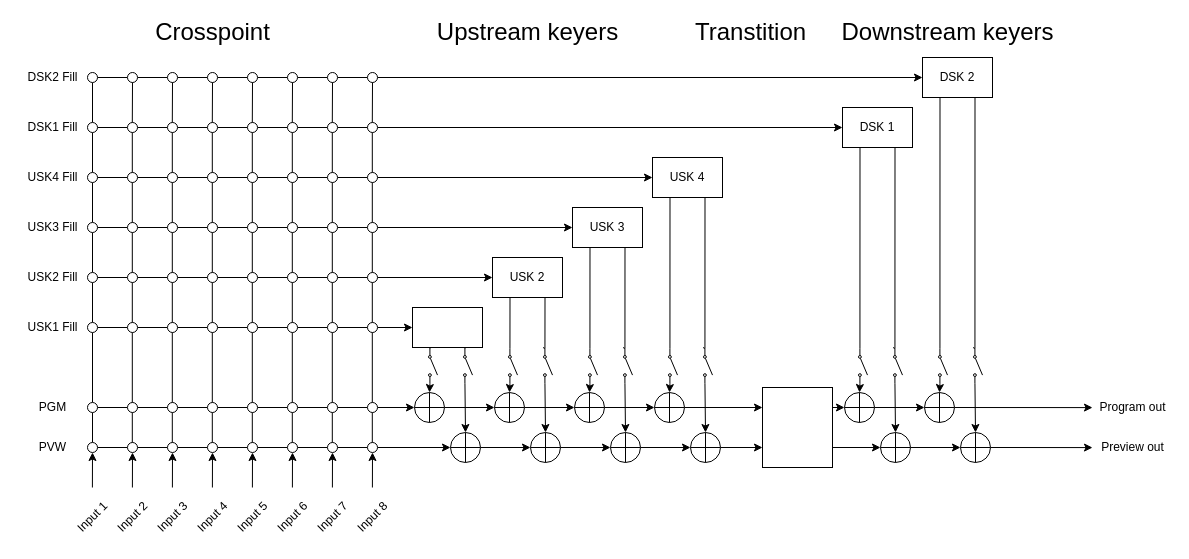
Some shapes in this 1189 by 559 pixel diagram are drawn without their labels. Here are the shapes that lost their labels. From the top down, the box of each, then its label:
(412, 306, 482, 348): USK 1
(762, 386, 832, 468): Transition Generator
